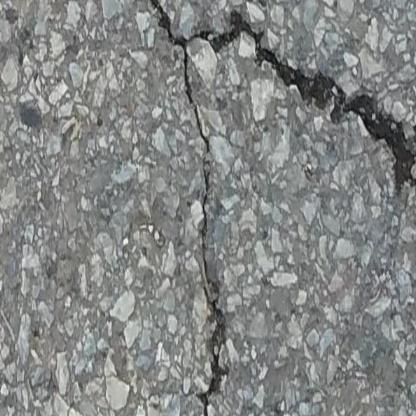Cracks: (102, 0, 416, 240), (179, 50, 230, 416), (407, 366, 416, 416)
